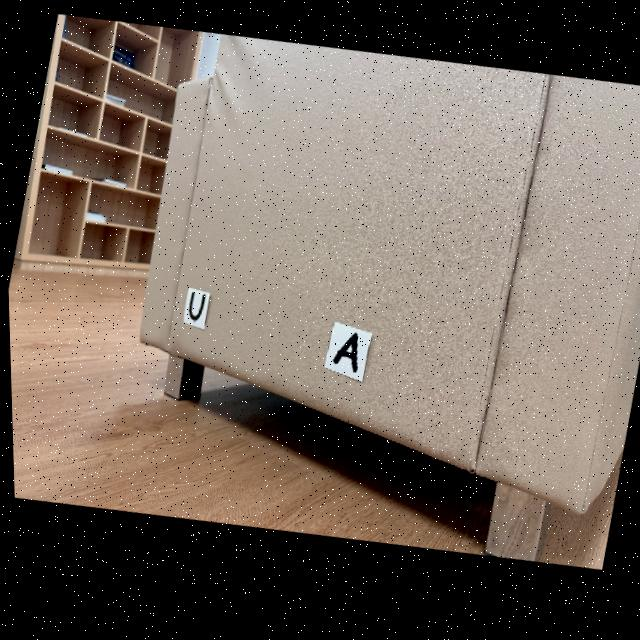A: (330, 339, 355, 378)
U: (185, 296, 203, 324)
